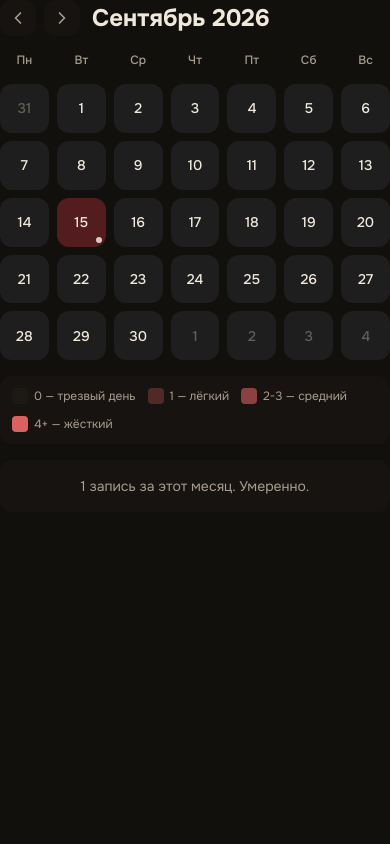
it: Calendar › marks a day that has an entry and opens day details
Click the button "15": (81, 222) 57,198 -> 106,247
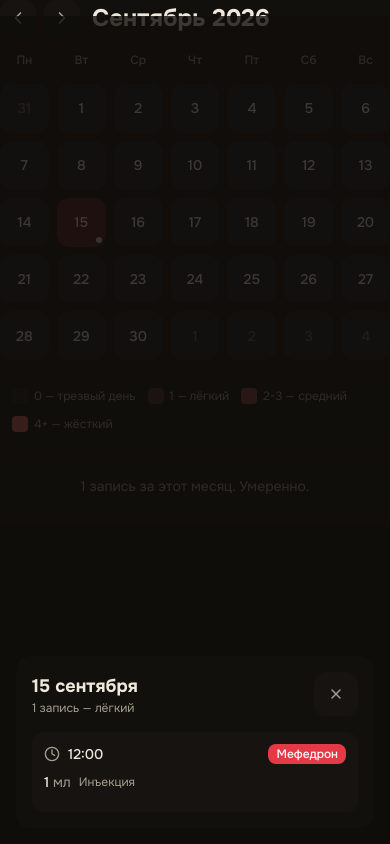
Expected: the heading "15 сентября" is shown, 32,672 -> 138,700
Expected: the text "1 запись — лёгкий" is shown, 32,700 -> 138,716
Expected: the text "Мефедрон" is shown, 268,744 -> 346,764
